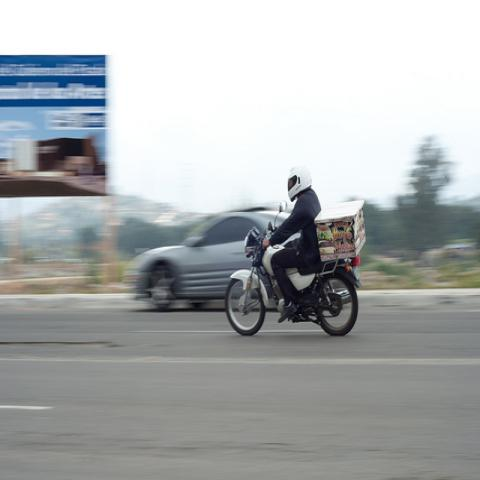car: (126, 208, 290, 309)
motorcycle: (221, 198, 368, 334)
